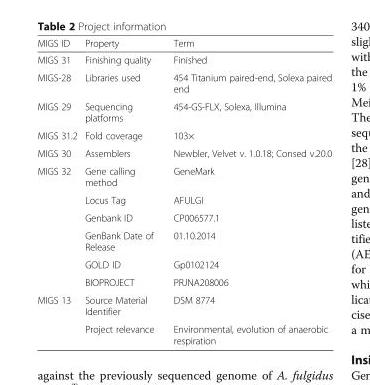table: (36, 37, 331, 345)
table column: (163, 37, 331, 345), (80, 37, 163, 345), (36, 37, 80, 345)
table column header: (36, 37, 331, 51)
table row: (36, 68, 331, 97), (36, 97, 331, 126), (36, 161, 331, 190), (36, 226, 331, 255), (36, 290, 331, 319), (36, 319, 331, 345), (36, 126, 331, 144), (36, 190, 331, 208), (36, 208, 331, 226), (36, 255, 331, 273), (36, 51, 331, 68), (36, 144, 331, 161), (36, 273, 331, 290), (36, 37, 331, 51)
table spanning cell: (36, 161, 80, 290), (36, 290, 80, 345)
